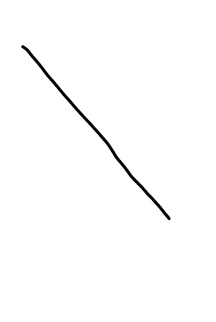Line: (19, 41, 175, 222)
